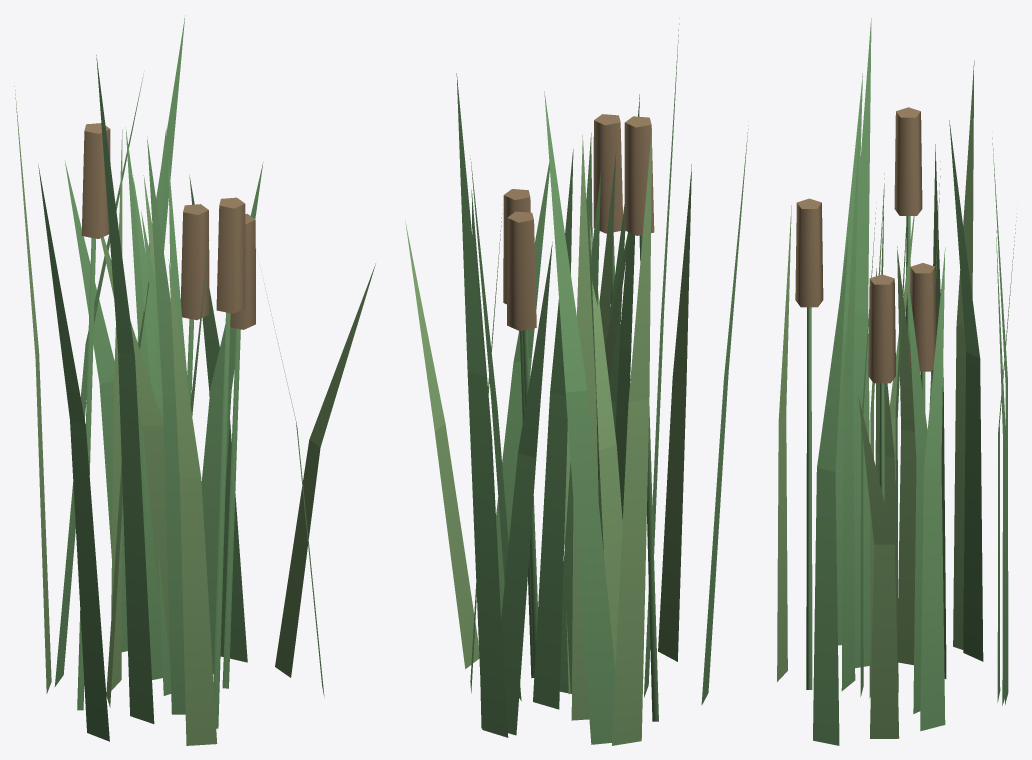
Rendered from schilf_1.glb.
The picture shows the model from 3 angles, left to right: view 1: azimuth 30°, elevation 25°; view 2: azimuth 150°, elevation 25°; view 3: azimuth 270°, elevation 25°; orthographic projection. The views are drawn at different scales.
Visible parts, largest first — view 1: G_schilf_1; view 2: G_schilf_1; view 3: G_schilf_1.
Part boxes in pixels (box(x1,y1,x2,y2)): G_schilf_1: box(14, 15, 375, 745); G_schilf_1: box(405, 18, 748, 745); G_schilf_1: box(777, 18, 1016, 745).
Bounding box in the file's own units: 1.25 × 2.39 × 0.82.
